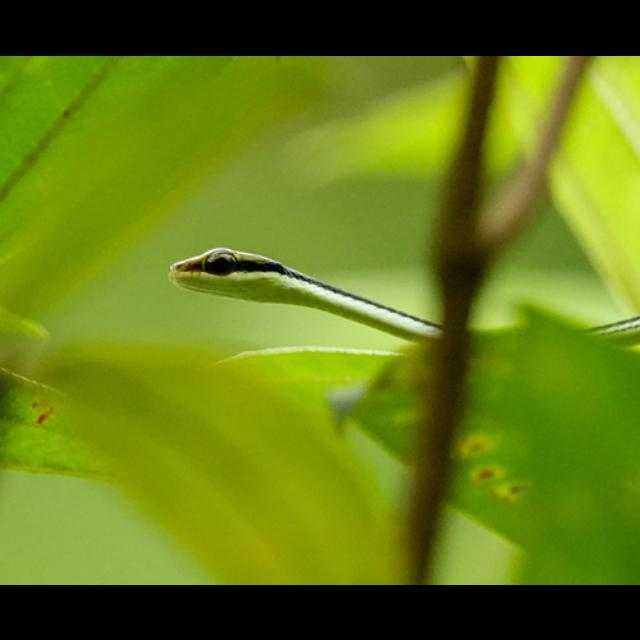snake: (150, 233, 640, 381)
